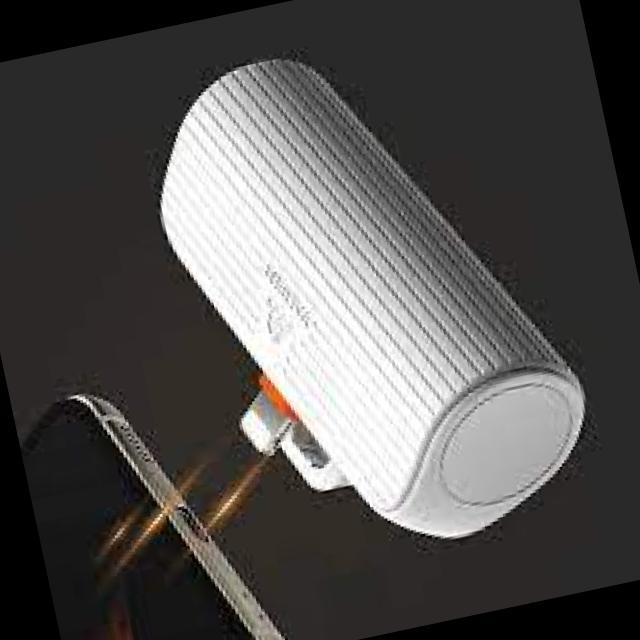power_bank: (128, 6, 609, 588)
